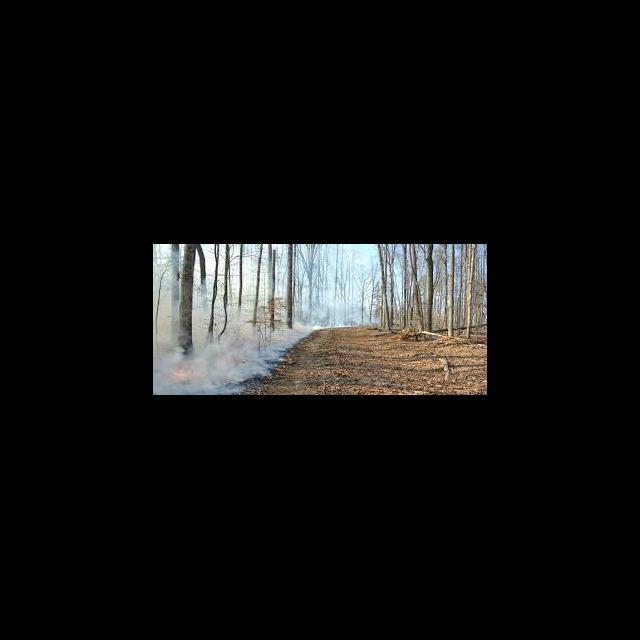Fire: (167, 364, 196, 383)
Smoke: (153, 304, 372, 394)
